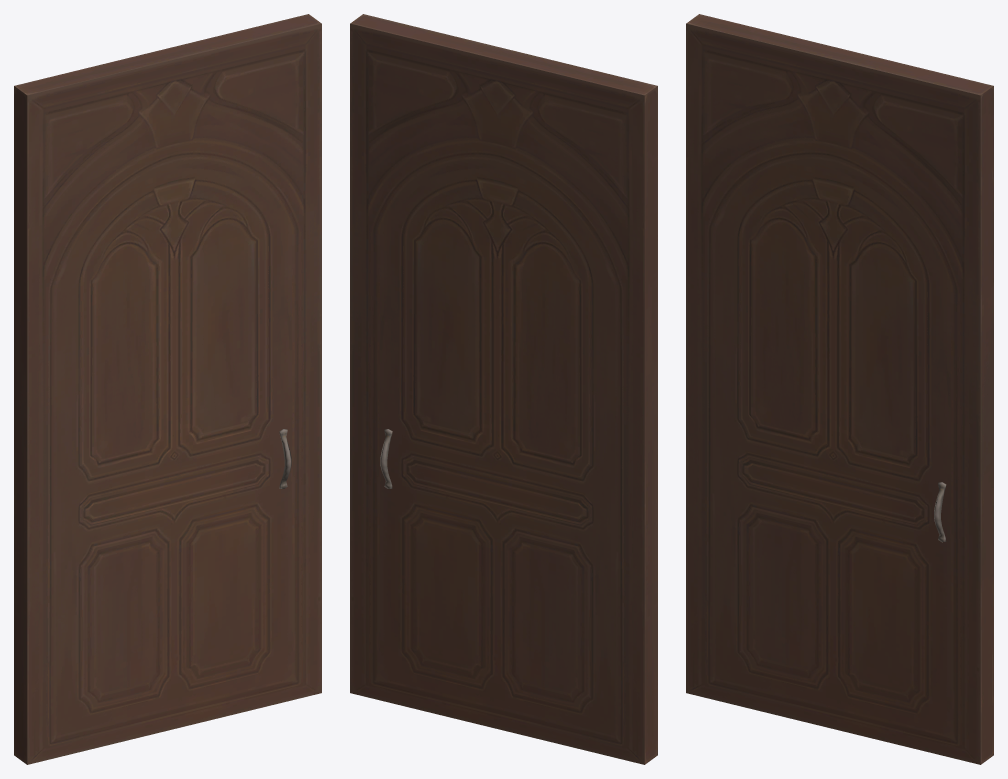
The model's file is Homeworld_Interior_Md_Room_Door_02_02_Vo.fbx.
3 views of the same model, side by side, from view 1: azimuth 30°, elevation 25°; view 2: azimuth 150°, elevation 25°; view 3: azimuth 330°, elevation 25° (orthographic).
Visible parts, largest first — view 1: Homeworld_Interior_Md_Room_Door_02_02_Vo; view 2: Homeworld_Interior_Md_Room_Door_02_02_Vo; view 3: Homeworld_Interior_Md_Room_Door_02_02_Vo.
Boxes of the visible parts, x1,y1,x2,y2 form: Homeworld_Interior_Md_Room_Door_02_02_Vo: (14,14,321,764); Homeworld_Interior_Md_Room_Door_02_02_Vo: (350,14,657,764); Homeworld_Interior_Md_Room_Door_02_02_Vo: (686,14,993,764).
Size of the model in its own units: 1.48 by 3.22 by 0.2349.
